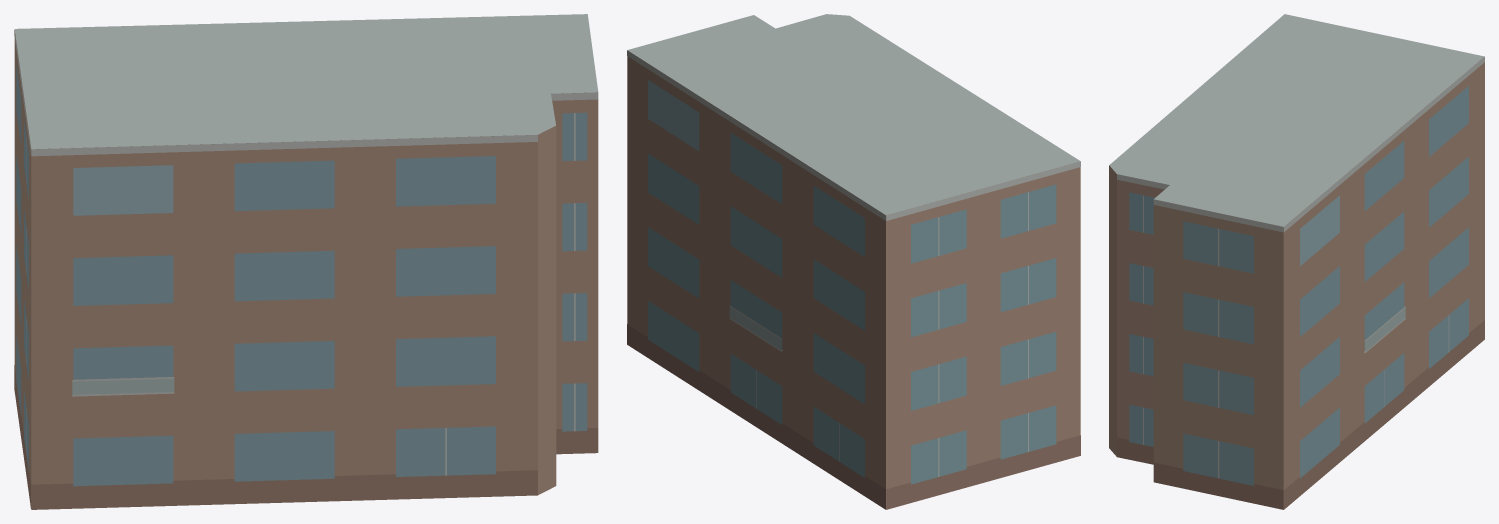
The model's file is survey-upis-32531540.glb.
3 renders of one model, left to right at view 1: azimuth 30°, elevation 25°; view 2: azimuth 150°, elevation 25°; view 3: azimuth 270°, elevation 25°, orthographic. The views are drawn at different scales.
Visible parts, largest first — view 1: survey-upis-32531540.tmp; view 2: survey-upis-32531540.tmp; view 3: survey-upis-32531540.tmp.
Part boxes in pixels (x1,y1,x2,y2): survey-upis-32531540.tmp: (14, 14, 598, 509); survey-upis-32531540.tmp: (627, 14, 1080, 509); survey-upis-32531540.tmp: (1109, 14, 1484, 509).
Size of the model in its own units: 20.02 by 12.4 by 14.93.
